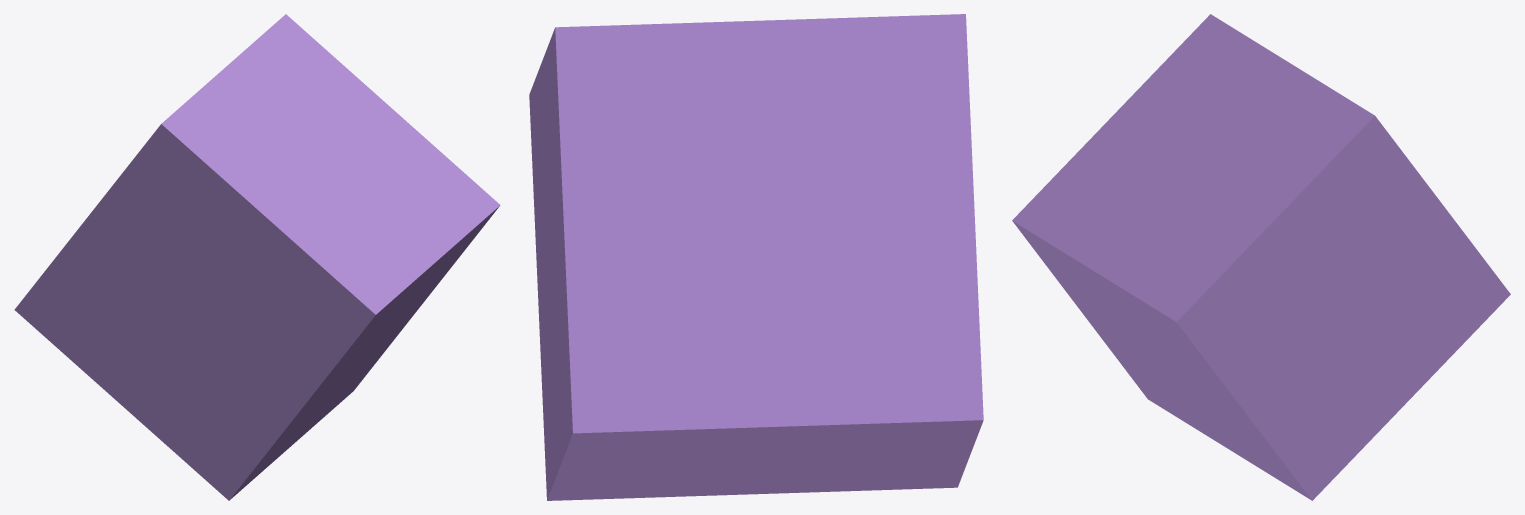
File: magical.glb
3 views of the same model, side by side, from view 1: azimuth 30°, elevation 25°; view 2: azimuth 150°, elevation 25°; view 3: azimuth 270°, elevation 25° (orthographic). The views are drawn at different scales.
Parts seen in each view (by area): view 1: magical2; view 2: magical2; view 3: magical2.
Part boxes in pixels (x1,y1,x2,y2): magical2: (14, 14, 500, 500); magical2: (529, 14, 983, 500); magical2: (1012, 14, 1510, 500).
Size of the model in its own units: 0.6441 by 0.556 by 0.6847.
